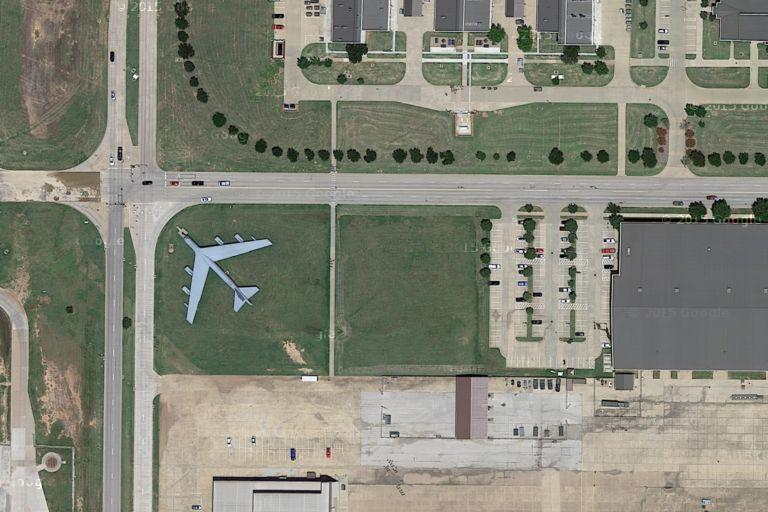B-52: (171, 227, 273, 327)
